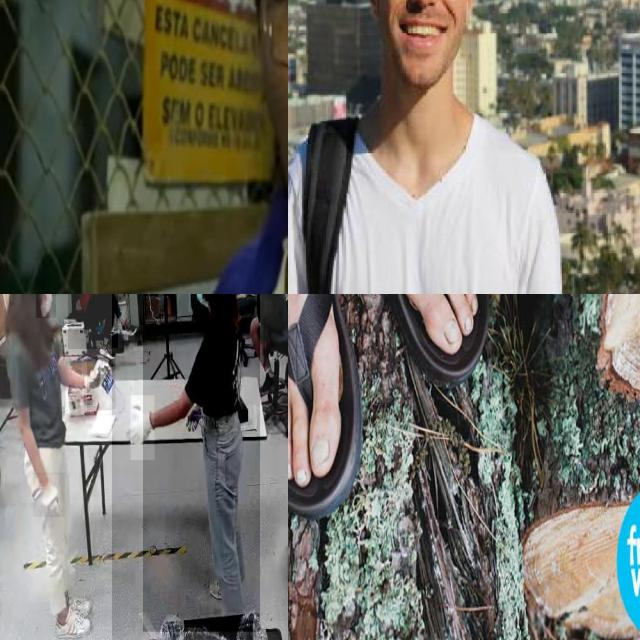Sandals: (288, 294, 528, 556)
face_mask: (36, 294, 56, 317), (188, 294, 211, 311)
face_nomask: (375, 0, 472, 54)
hand_glove: (131, 395, 155, 461), (87, 357, 116, 410), (33, 472, 65, 518)
person: (288, 0, 569, 294), (143, 294, 260, 632), (0, 294, 112, 640), (67, 294, 118, 349)
shoes: (53, 601, 94, 640), (98, 334, 116, 366), (118, 316, 140, 341)
